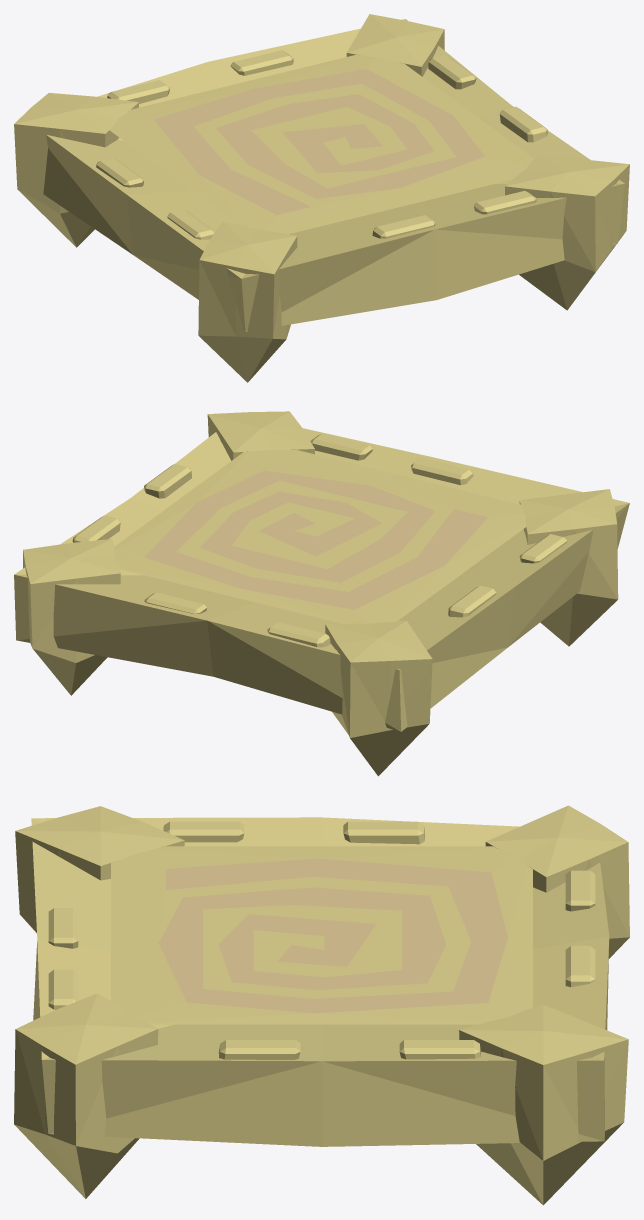
Rendered from tile_all.fbx.
3 views of the same model, one above another, from view 1: azimuth 30°, elevation 25°; view 2: azimuth 150°, elevation 25°; view 3: azimuth 270°, elevation 25° (orthographic). The views are drawn at different scales.
Parts seen in each view (by area): view 1: Component_10, Component_13 (×4), ID240, Component_99, Component_100 (×8); view 2: Component_10, Component_13 (×4), ID240, Component_99, Component_100 (×8); view 3: Component_10, Component_13 (×4), ID240, Component_99, Component_100 (×8).
Part boxes in pixels (x1,y1,x2,y2): Component_10: (43, 19, 624, 331); Component_13 (×4): (14, 14, 629, 382); ID240: (109, 54, 533, 234); Component_99: (154, 69, 484, 214); Component_100 (×8): (96, 50, 547, 239); Component_10: (14, 428, 629, 731); Component_13 (×4): (23, 411, 618, 776); ID240: (114, 450, 526, 623); Component_99: (144, 470, 487, 609); Component_100 (×8): (72, 433, 567, 647); Component_10: (31, 817, 609, 1146); Component_13 (×4): (14, 805, 629, 1205); ID240: (111, 846, 532, 1024); Component_99: (158, 858, 507, 1013); Component_100 (×8): (48, 821, 595, 1059).
Bounding box in the file's own units: 120 × 37.36 × 120.
